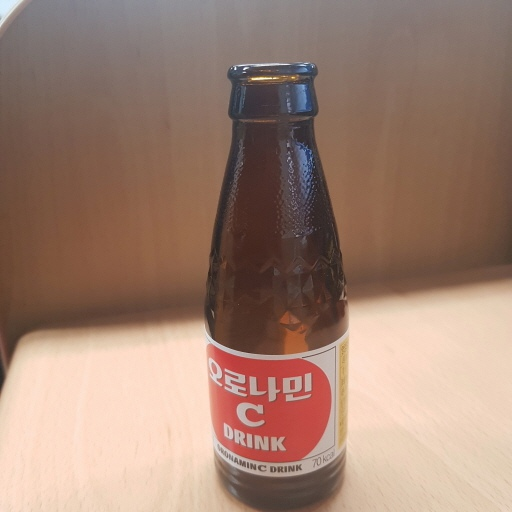Glass_3: (206, 55, 357, 512)
